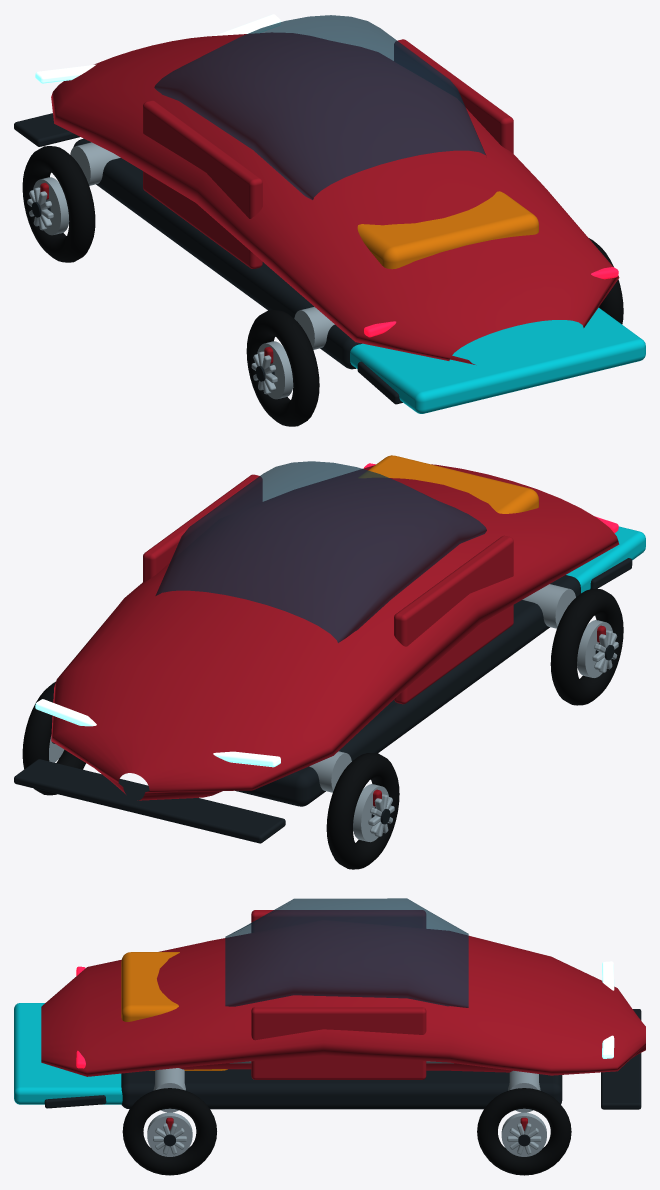
File: apex_r.glb
The picture shows the model from 3 angles, top to bottom: view 1: azimuth 30°, elevation 25°; view 2: azimuth 150°, elevation 25°; view 3: azimuth 270°, elevation 25°; orthographic projection. The views are drawn at different scales.
Parts seen in each view (by area): view 1: meet_mesh__monocoque__continuous_aero_shell, meet_mesh__canopy__single_piece_glasshouse, meet_mesh__active_diffuser__venturi, meet_mesh__chassis__lower_frame, meet_mesh__left_door__scissor_shell, meet_mesh__powertrain__original_power_core, meet_mesh__wheel_left_-1.55__tire, meet_mesh__wheel_left_1.45__tire, meet_mesh__right_door__scissor_shell, meet_mesh__front_splitter__aero_plane, meet_mesh__axle_-1.55__axle, meet_mesh__wheel_left_1.45__brake_disc (+6 smaller); view 2: meet_mesh__monocoque__continuous_aero_shell, meet_mesh__canopy__single_piece_glasshouse, meet_mesh__chassis__lower_frame, meet_mesh__front_splitter__aero_plane, meet_mesh__left_door__scissor_shell, meet_mesh__wheel_left_1.45__tire, meet_mesh__wheel_left_-1.55__tire, meet_mesh__powertrain__original_power_core, meet_mesh__right_door__scissor_shell, meet_mesh__wheel_right_-1.55__tire, meet_mesh__active_diffuser__venturi, meet_mesh__axle_1.45__axle (+5 smaller); view 3: meet_mesh__monocoque__continuous_aero_shell, meet_mesh__canopy__single_piece_glasshouse, meet_mesh__chassis__lower_frame, meet_mesh__right_door__scissor_shell, meet_mesh__active_diffuser__venturi, meet_mesh__wheel_right_-1.55__tire, meet_mesh__wheel_right_1.45__tire, meet_mesh__powertrain__original_power_core, meet_mesh__left_door__scissor_shell, meet_mesh__front_splitter__aero_plane, meet_mesh__wheel_right_-1.55__brake_disc, meet_mesh__wheel_right_1.45__brake_disc (+3 smaller).
Boxes of the visible parts, x1,y1,x2,y2 form: meet_mesh__monocoque__continuous_aero_shell: (51,32,619,364); meet_mesh__canopy__single_piece_glasshouse: (154,15,486,199); meet_mesh__active_diffuser__venturi: (350,307,645,413); meet_mesh__chassis__lower_frame: (73,138,361,369); meet_mesh__left_door__scissor_shell: (143,100,262,268); meet_mesh__powertrain__original_power_core: (357,191,538,269); meet_mesh__wheel_left_-1.55__tire: (22,146,95,262); meet_mesh__wheel_left_1.45__tire: (246,310,319,426); meet_mesh__right_door__scissor_shell: (394,39,513,153); meet_mesh__front_splitter__aero_plane: (14,113,79,146); meet_mesh__axle_-1.55__axle: (70,142,120,185); meet_mesh__wheel_left_1.45__brake_disc: (257,341,293,399); meet_mesh__monocoque__continuous_aero_shell: (51,464,619,800); meet_mesh__canopy__single_piece_glasshouse: (155,461,486,642); meet_mesh__chassis__lower_frame: (235,575,580,806); meet_mesh__front_splitter__aero_plane: (14,759,285,843); meet_mesh__left_door__scissor_shell: (394,535,513,704); meet_mesh__wheel_left_1.45__tire: (550,588,623,705); meet_mesh__wheel_left_-1.55__tire: (326,753,399,869); meet_mesh__powertrain__original_power_core: (358,455,538,513); meet_mesh__right_door__scissor_shell: (143,474,262,582); meet_mesh__wheel_right_-1.55__tire: (22,681,85,795); meet_mesh__active_diffuser__venturi: (566,526,645,593); meet_mesh__axle_1.45__axle: (522,584,575,628); meet_mesh__monocoque__continuous_aero_shell: (41,920,645,1076); meet_mesh__canopy__single_piece_glasshouse: (225,898,468,1007); meet_mesh__chassis__lower_frame: (121,1069,562,1109); meet_mesh__right_door__scissor_shell: (251,1007,426,1079); meet_mesh__active_diffuser__venturi: (14,1003,122,1104); meet_mesh__wheel_right_-1.55__tire: (477,1088,571,1175); meet_mesh__wheel_right_1.45__tire: (122,1088,216,1175); meet_mesh__powertrain__original_power_core: (121,952,227,1070); meet_mesh__left_door__scissor_shell: (251,910,425,932); meet_mesh__front_splitter__aero_plane: (601,1009,641,1109); meet_mesh__wheel_right_-1.55__brake_disc: (501,1112,546,1156); meet_mesh__wheel_right_1.45__brake_disc: (147,1112,192,1156).
Size of the model in its own units: 2.71 by 1.88 by 5.35.
